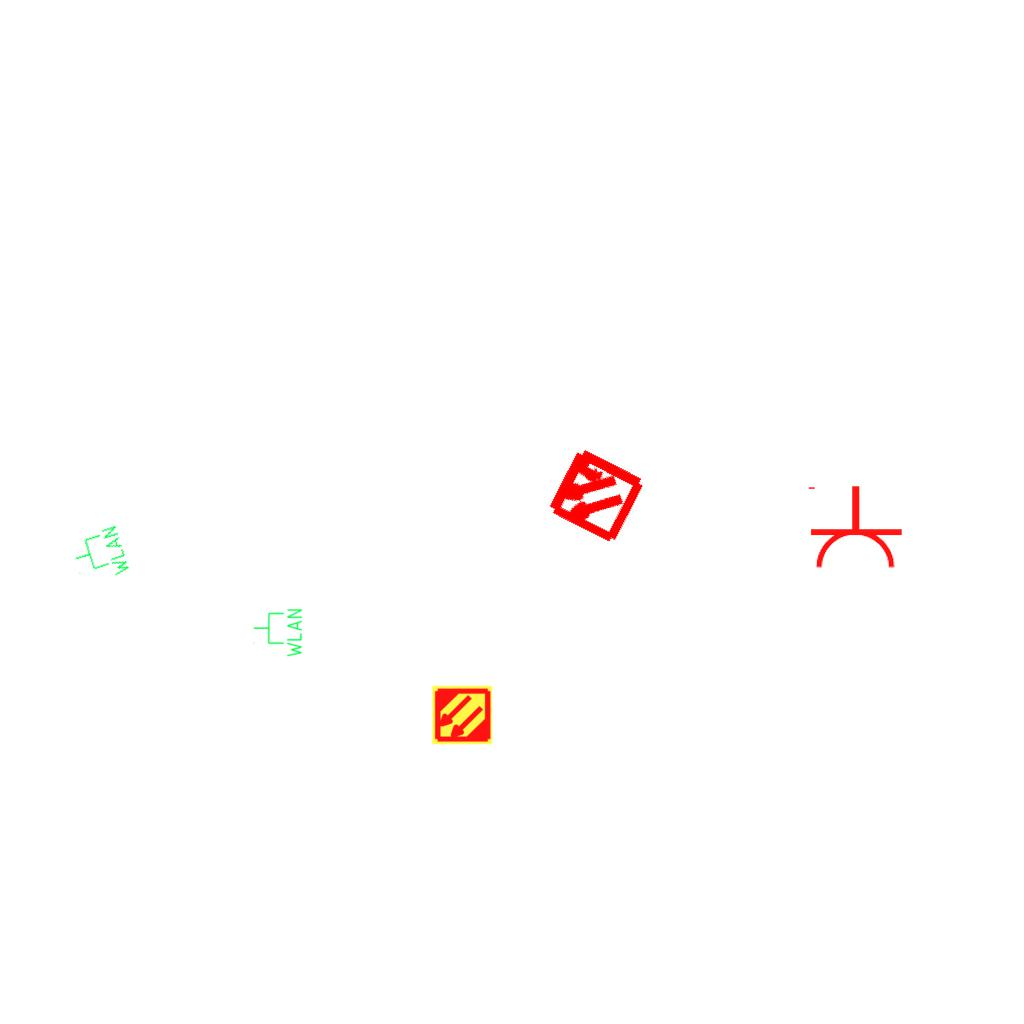ASR_Ansaugrauchmelder: (431, 684, 493, 746)
OT_Multisensormelder_(Kombination_RMO_WMD): (518, 418, 671, 571)
Schukosteckdose_einfach: (804, 484, 904, 571)
WLAN: (67, 523, 133, 589), (252, 607, 304, 659)
